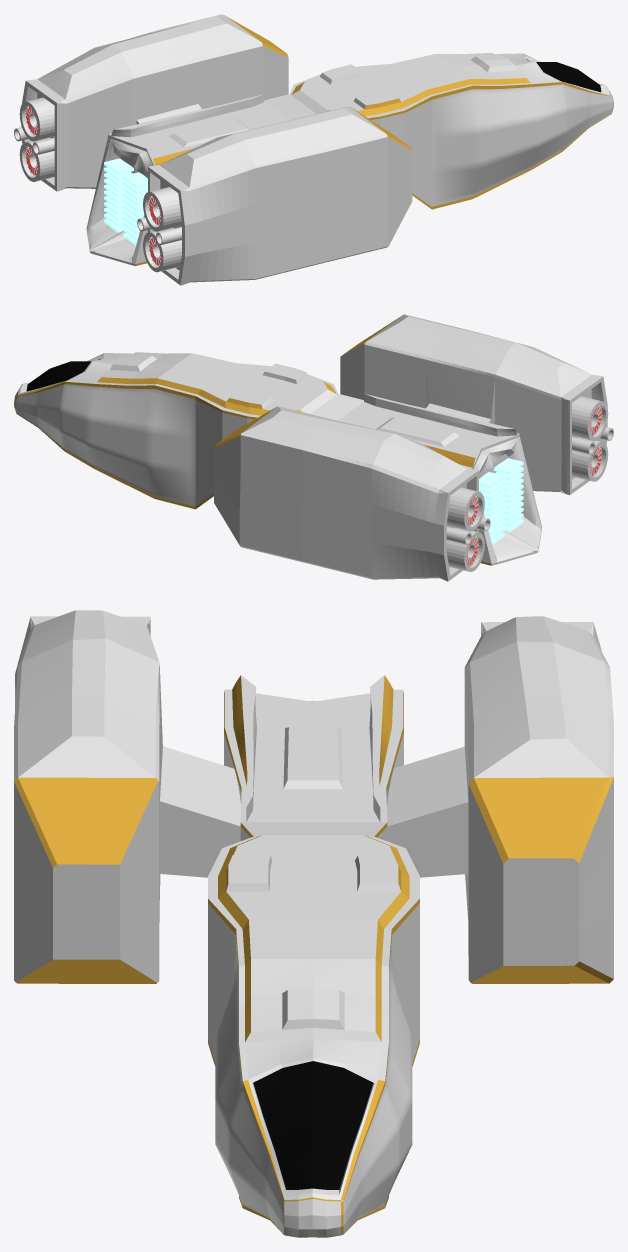
Rendered from SHIPS4.fbx.
3 renders of one model, top to bottom at view 1: azimuth 30°, elevation 25°; view 2: azimuth 150°, elevation 25°; view 3: azimuth 270°, elevation 25°, orthographic. The views are drawn at different scales.
Visible parts, largest first — view 1: Cube, Cylinder, Cube.001; view 2: Cube, Cylinder, Cube.001; view 3: Cube.
Part boxes in pixels (x1,y1,x2,y2): Cube: [21, 14, 613, 285]; Cylinder: [14, 97, 181, 272]; Cube.001: [104, 158, 147, 245]; Cube: [14, 314, 607, 581]; Cylinder: [446, 396, 613, 571]; Cube.001: [479, 458, 523, 544]; Cube: [14, 610, 613, 1237].
Size of the model in its own units: 259 by 75.52 by 142.
